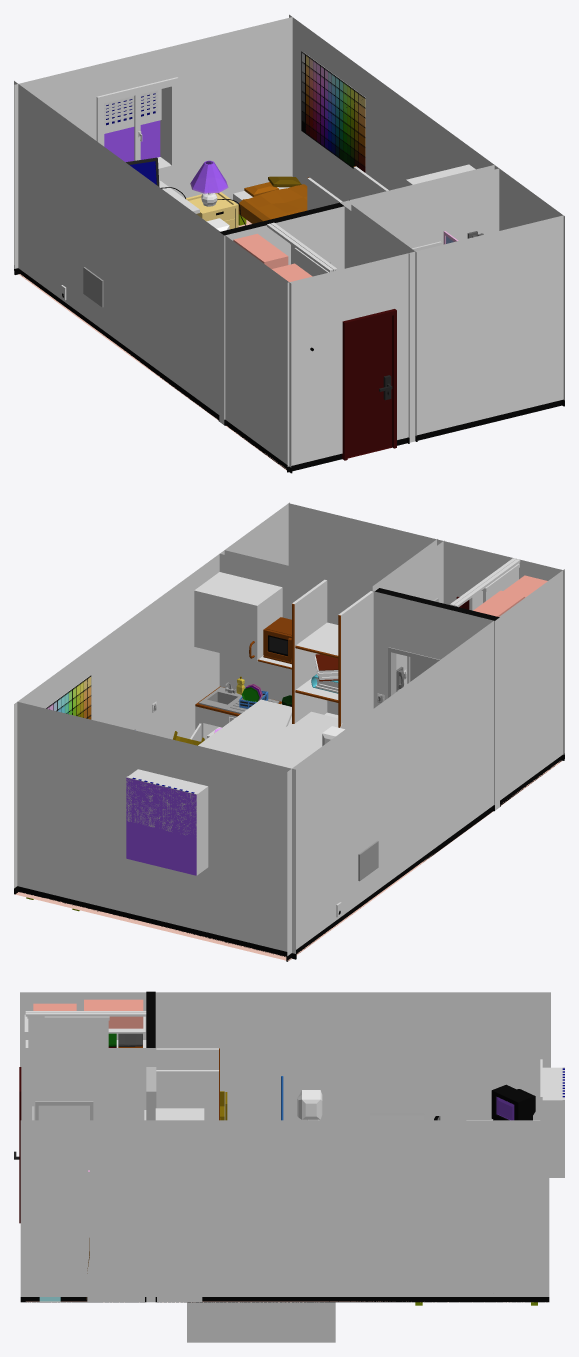
Rendered from room.gltf.
The picture shows the model from 3 angles, top to bottom: view 1: azimuth 30°, elevation 25°; view 2: azimuth 150°, elevation 25°; view 3: azimuth 270°, elevation 25°; orthographic projection. The views are drawn at different scales.
Visible parts, largest first — view 1: murs_57, poster_40, lit_10, penderie_36, chevet_28, meuble fourni_14, radiateur_18; view 2: murs_57, meuble fourni_14, meuble dessus evier_16, Cube, penderie_36, evier cuisiniere_12, sol_56, micro-onde_35, poster_40, cahiers 2_33, radiateur_18; view 3: murs_57, poster_40, Cube, penderie_36, meuble fourni_14, TV_15, bonhomme_9, meuble dessus evier_16, vetements_47.
Part boxes in pixels (x1,y1,x2,y2): murs_57: (14,14,564,473); poster_40: (301,51,365,172); lit_10: (233,176,307,225); penderie_36: (233,222,337,351); chevet_28: (186,160,238,229); meuble fourni_14: (307,166,388,210); radiateur_18: (83,267,103,307); murs_57: (14,502,564,961); meuble fourni_14: (285,579,373,729); meuble dessus evier_16: (194,572,291,669); Cube: (198,699,338,768); penderie_36: (450,558,547,616); evier cuisiniere_12: (190,682,281,741); sol_56: (15,760,561,961); micro-onde_35: (263,617,291,664); poster_40: (45,675,91,719); cahiers 2_33: (311,654,338,693); radiateur_18: (358,840,378,881); murs_57: (14,991,564,1302); poster_40: (401,1146,524,1222); Cube: (187,1302,335,1342); penderie_36: (24,999,146,1120); meuble fourni_14: (156,1048,219,1120); TV_15: (491,1084,535,1120); bonhomme_9: (297,1090,322,1120); meuble dessus evier_16: (155,1108,204,1120); vetements_47: (108,1033,142,1047).
Bounding box in the file's own units: 4.16 × 3.71 × 7.41.
Materials: 5 (2 with a texture image).
